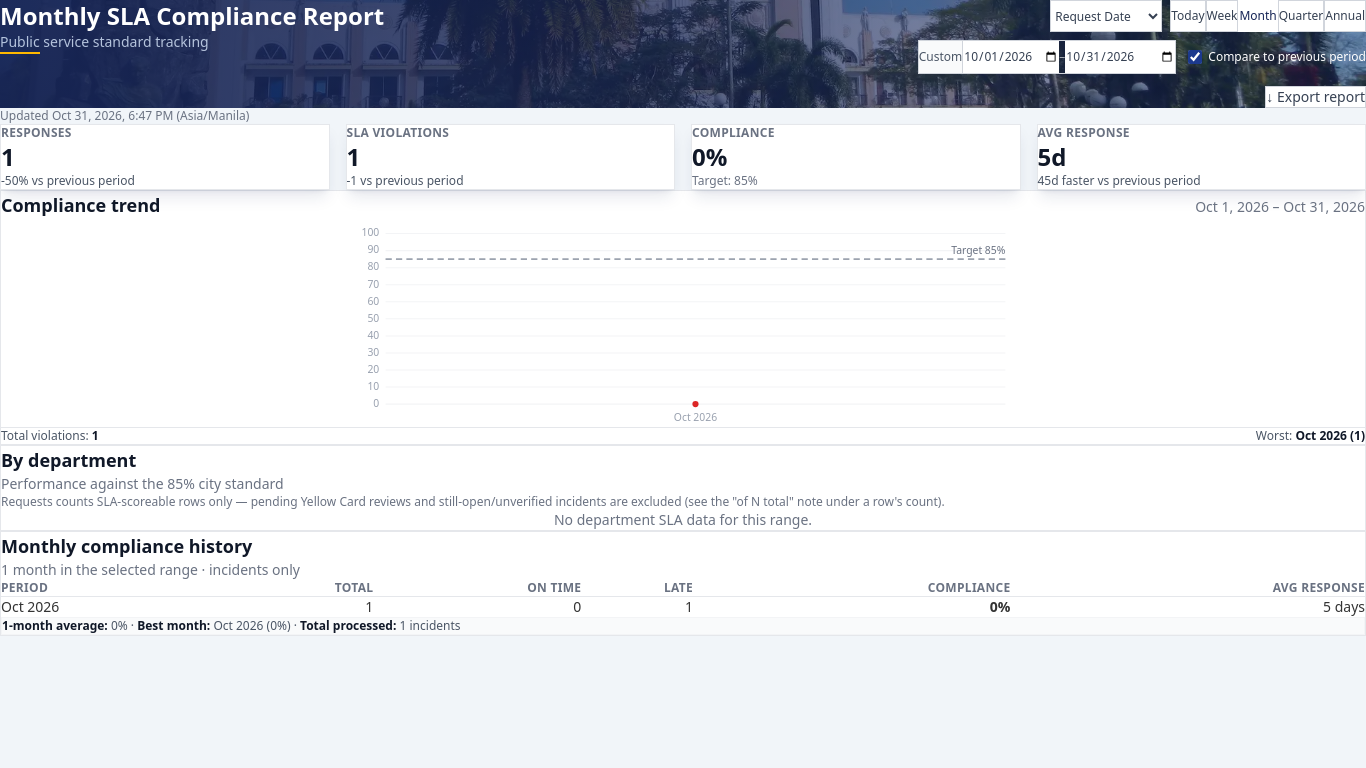
Scenario: SLAReportsPage › renders the compliance trend chart from getSlaTrend's derived points
Expected: the text "No department SLA data for this range." is shown, 554,510 -> 812,529
Click the button "Annual": point(1345, 16) 1324,0 -> 1365,32
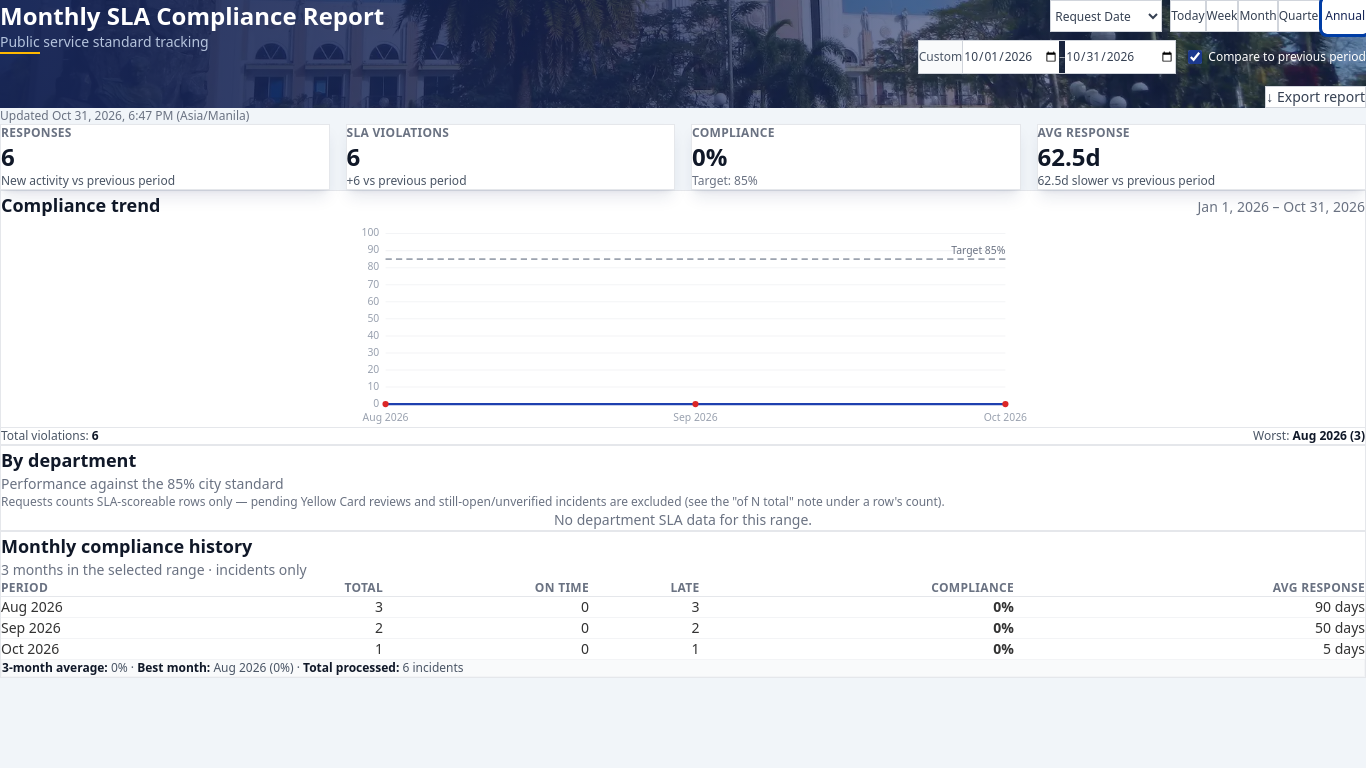
Expected: the heading "Compliance trend" is shown, 1,191 -> 160,219
Expected: the text "6" next to "Total violations:" is shown, 92,427 -> 99,444
